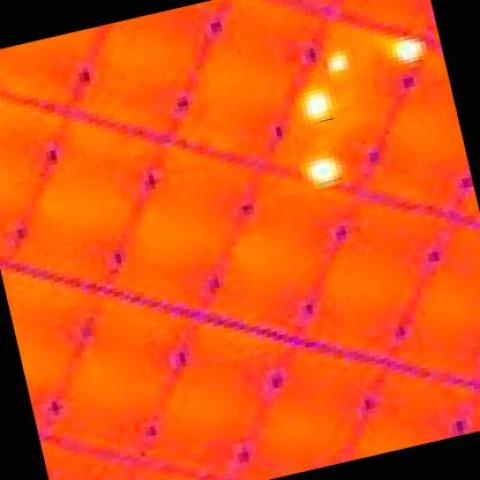fault: (309, 158, 339, 177), (398, 39, 420, 56), (306, 91, 322, 113), (330, 54, 347, 72)
